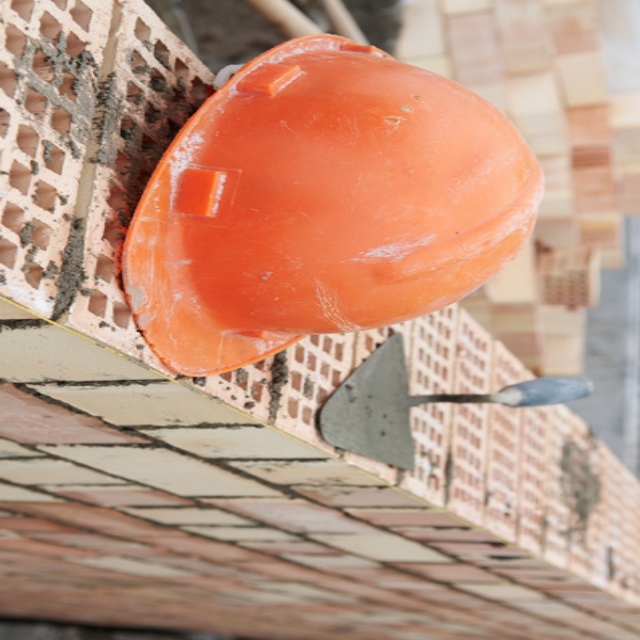yellow-helmet: (111, 36, 540, 384)
